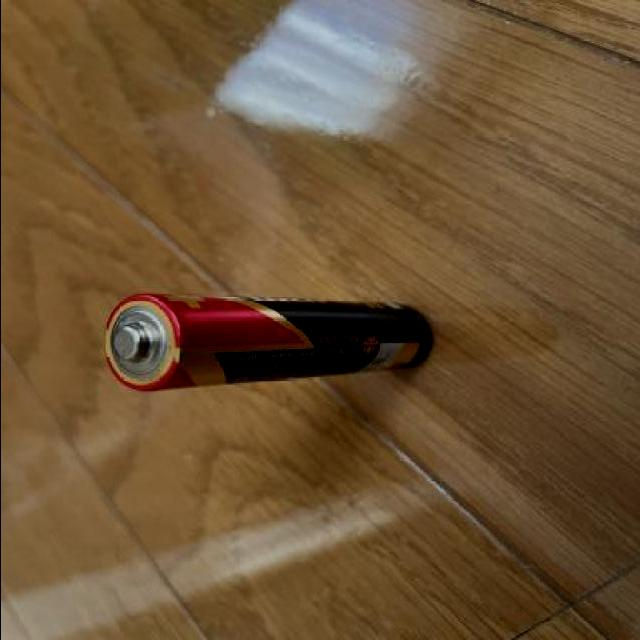AA: (95, 289, 434, 400)
